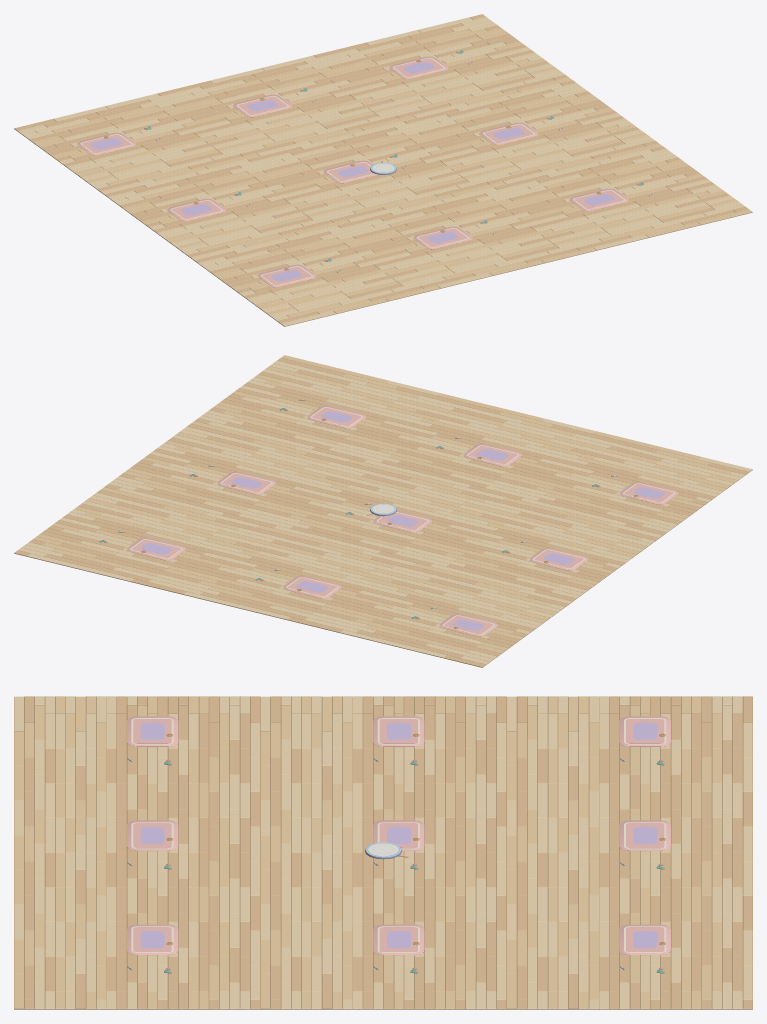
Rendered from vacuum_kit.glb.
3 views of the same model, one above another, from view 1: azimuth 30°, elevation 25°; view 2: azimuth 150°, elevation 25°; view 3: azimuth 270°, elevation 25° (orthographic). The views are drawn at different scales.
Visible parts, largest first — view 1: FLOOR; view 2: FLOOR; view 3: FLOOR.
Boxes of the visible parts, x1,y1,x2,y2 form: FLOOR: (14, 14, 752, 326); FLOOR: (14, 355, 752, 667); FLOOR: (14, 696, 752, 1009).
Size of the model in its own units: 216 by 1.2 by 216.
1 material, 1 textured.
